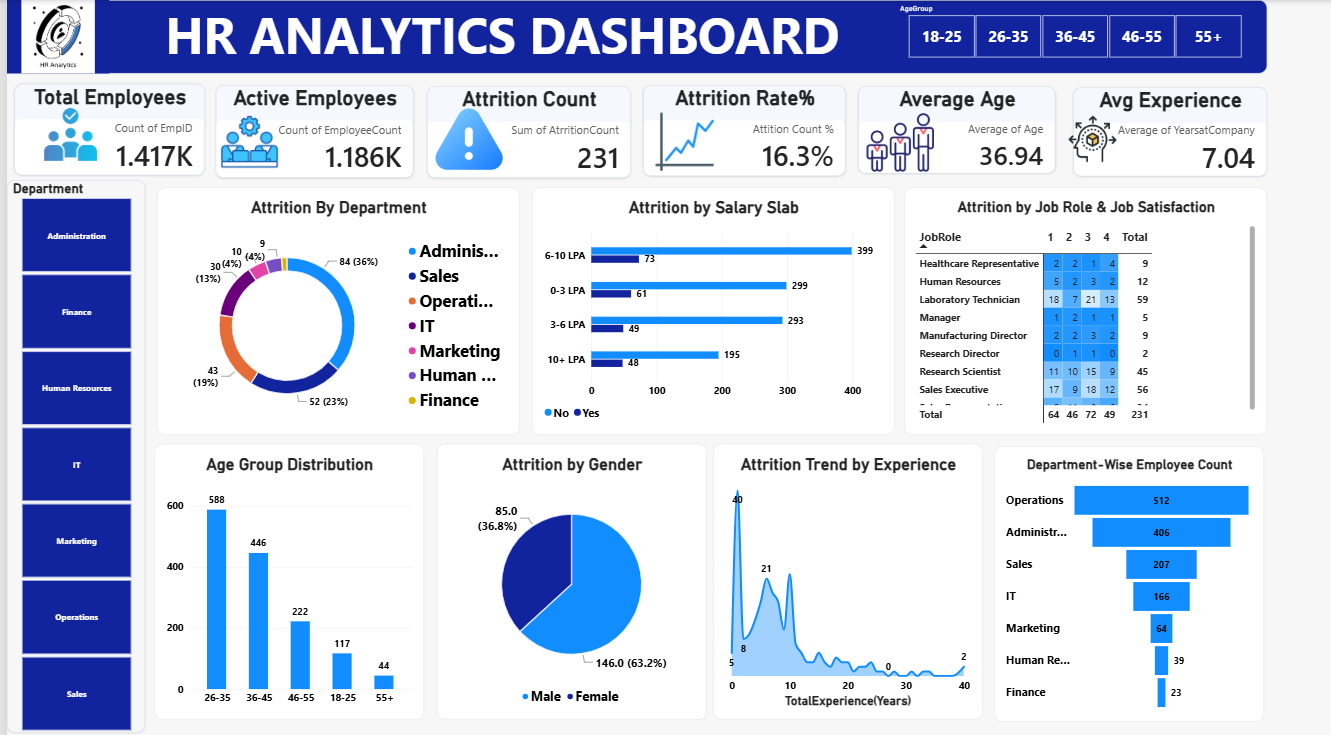

The dashboard page shown, as its layout file describes it:
{"tool":"powerbi","page":{"name":"Page 1","canvas":[1920,1080],"ordinal":0},"visuals":[{"type":"textbox","box":[10.9,0,1813.3,106.8],"z":0},{"type":"image","box":[0,0,148.4,106.8],"z":1000},{"type":"cardVisual","title":"Total Employees","fields":{"Data":["CountNonNull(HR_Analytics-4.EmpID)"]},"box":[10.9,121.2,275.8,132.6],"z":2000},{"type":"cardVisual","title":"Average Age","fields":{"Data":["Avg(HR_Analytics-4.Age)"]},"box":[1232.4,124.9,285.9,126.7],"z":3000},{"type":"cardVisual","title":"Avg Experience","fields":{"Data":["Avg(HR_Analytics-4.YearsatCompany)"]},"box":[1543.6,126.7,280.5,128.5],"z":4000},{"type":"cardVisual","title":"Active Employees","fields":{"Data":["CountNonNull(HR_Analytics-4.EmployeeCount)"]},"box":[302.2,123.1,286.5,134.7],"z":5000},{"type":"cardVisual","title":"Attrition Count","fields":{"Data":["Sum(HR_Analytics-4.AtrritionCount)"]},"box":[608,124.9,295.1,132.6],"z":6000},{"type":"cardVisual","title":"Attrition Rate%","fields":{"Data":["HR_Analytics-4.Attition Count %"]},"box":[921.1,123.1,293.2,132.1],"z":7000},{"type":"image","box":[0,153.8,184.6,81.4],"z":8000},{"type":"image","box":[285.9,162.9,130.3,85.1],"z":9000},{"type":"image","box":[553.8,150.2,230.9,102.6],"z":10000},{"type":"image","box":[899.4,162.9,162.9,85.1],"z":11000},{"type":"image","box":[1232.4,157.4,121.2,97.7],"z":12000},{"type":"image","box":[1536.4,152,70.6,97.7],"z":13000},{"type":"donutChart","title":"Attrition By Department","fields":{"Category":["HR_Analytics-4.Department"],"Y":["Sum(HR_Analytics-4.AtrritionCount)"]},"box":[217.2,271.4,525,358.3],"z":14000},{"type":"clusteredBarChart","title":"Attrition by Salary Slab","fields":{"Category":["HR_Analytics-4.SalarySlab"],"Series":["HR_Analytics-4.Attrition"],"Y":["CountNonNull(HR_Analytics-4.EmpID)"]},"box":[760.1,271.4,525,358.3],"z":15000},{"type":"pivotTable","title":"Attrition by Job Role & Job Satisfaction","fields":{"Columns":["HR_Analytics-4.JobSatisfaction"],"Rows":["HR_Analytics-4.JobRole"],"Values":["Sum(HR_Analytics-4.AtrritionCount)"]},"box":[1299.3,271.4,525,358],"z":16000},{"type":"columnChart","title":"Age Group Distribution","fields":{"Category":["HR_Analytics-4.AgeGroup"],"Y":["Sum(HR_Analytics-4.EmployeeCount)"]},"box":[213.5,642.4,390,399.9],"z":17000},{"type":"pieChart","title":"Attrition by Gender","fields":{"Category":["HR_Analytics-4.Gender"],"Y":["Sum(HR_Analytics-4.AtrritionCount)"]},"box":[622.5,642.4,390,399.9],"z":18000},{"type":"areaChart","title":"Attrition Trend by Experience","fields":{"Category":["HR_Analytics-4.TotalExperience(Years)"],"Y":["Sum(HR_Analytics-4.AtrritionCount)"]},"box":[1022.5,642.4,390,399],"z":19000},{"type":"funnel","title":"Department-Wise Employee Count","fields":{"Category":["HR_Analytics-4.Department"],"Y":["CountNonNull(HR_Analytics-4.EmpID)"]},"box":[1429.6,646,390,399],"z":20000},{"type":"slicer","fields":{"Values":["HR_Analytics-4.Department"]},"box":[0,260.6,200,800],"z":20001},{"type":"slicer","fields":{"Values":["HR_Analytics-4.AgeGroup"]},"box":[1284.9,5.4,521.2,79.6],"z":20002}]}

Visuals, with their boxes in screenshot pixels (x1, y1, x2, y2), scaled from the page's 1920x1080 canvas onto the 1331x735 screenshot:
textbox: (left=8, top=0, right=1265, bottom=73)
image: (left=0, top=0, right=103, bottom=73)
"Total Employees" cardVisual: (left=8, top=82, right=199, bottom=173)
"Average Age" cardVisual: (left=854, top=85, right=1053, bottom=171)
"Avg Experience" cardVisual: (left=1070, top=86, right=1265, bottom=174)
"Active Employees" cardVisual: (left=209, top=84, right=408, bottom=175)
"Attrition Count" cardVisual: (left=421, top=85, right=626, bottom=175)
"Attrition Rate%" cardVisual: (left=639, top=84, right=842, bottom=174)
image: (left=0, top=105, right=128, bottom=160)
image: (left=198, top=111, right=289, bottom=169)
image: (left=384, top=102, right=544, bottom=172)
image: (left=623, top=111, right=736, bottom=169)
image: (left=854, top=107, right=938, bottom=174)
image: (left=1065, top=103, right=1114, bottom=170)
"Attrition By Department" donutChart: (left=151, top=185, right=515, bottom=429)
"Attrition by Salary Slab" clusteredBarChart: (left=527, top=185, right=891, bottom=429)
"Attrition by Job Role & Job Satisfaction" pivotTable: (left=901, top=185, right=1265, bottom=428)
"Age Group Distribution" columnChart: (left=148, top=437, right=418, bottom=709)
"Attrition by Gender" pieChart: (left=432, top=437, right=702, bottom=709)
"Attrition Trend by Experience" areaChart: (left=709, top=437, right=979, bottom=709)
"Department-Wise Employee Count" funnel: (left=991, top=440, right=1261, bottom=711)
slicer - HR_Analytics-4.Department: (left=0, top=177, right=139, bottom=722)
slicer - HR_Analytics-4.AgeGroup: (left=891, top=4, right=1252, bottom=58)
